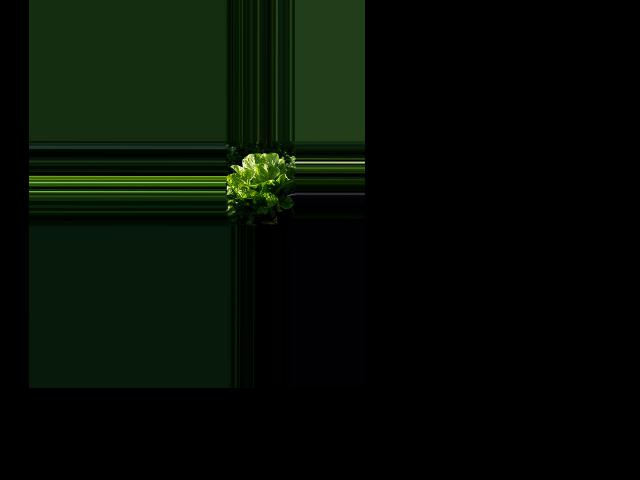lettuce: (233, 153, 293, 212)
